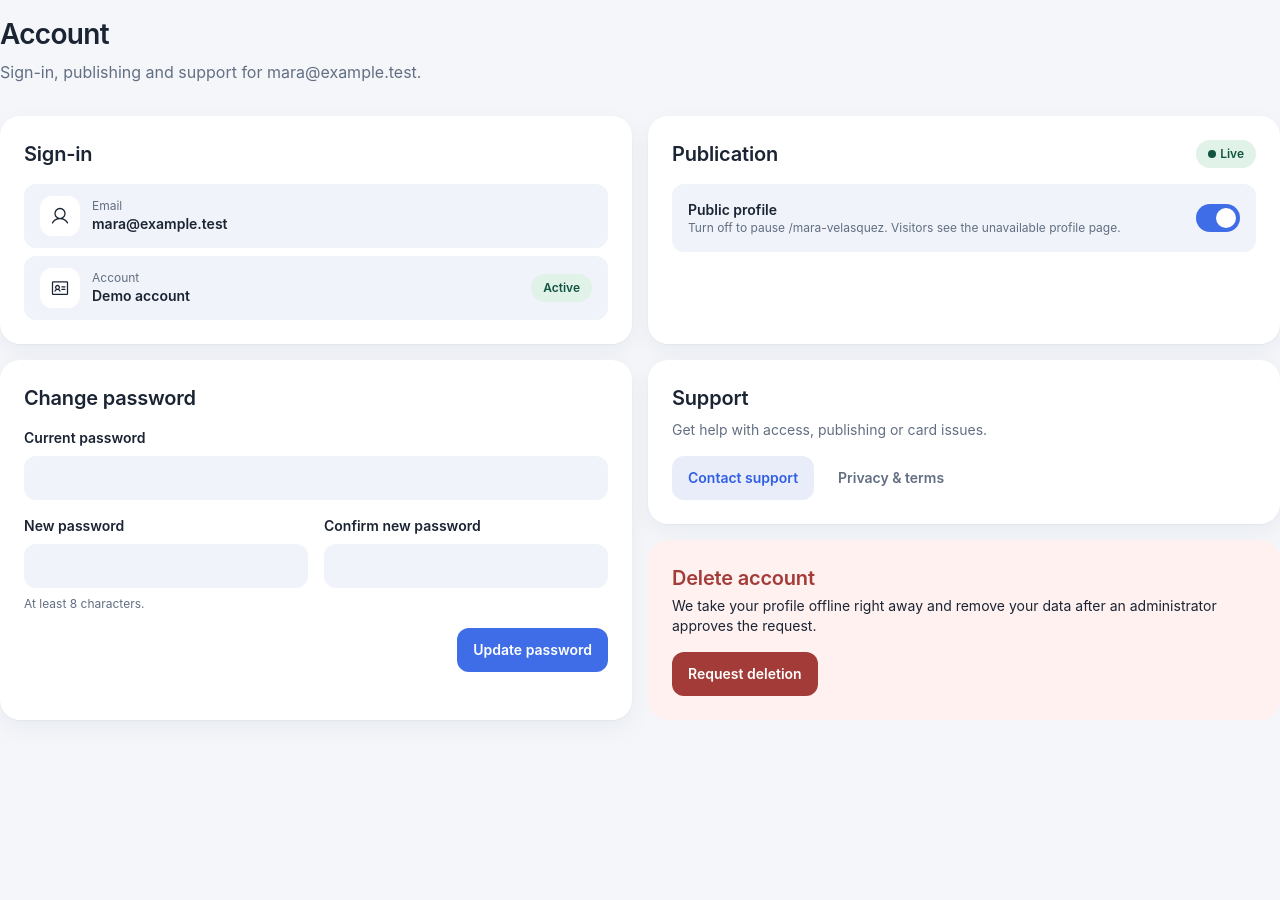
Test: demo auth isolation › keeps account deletion for an ordinary local customer
What coordinates should you click on to do the following:
click the button "Request deletion"
I would click on:
 (745, 674)
Its box is [672,652,818,696].
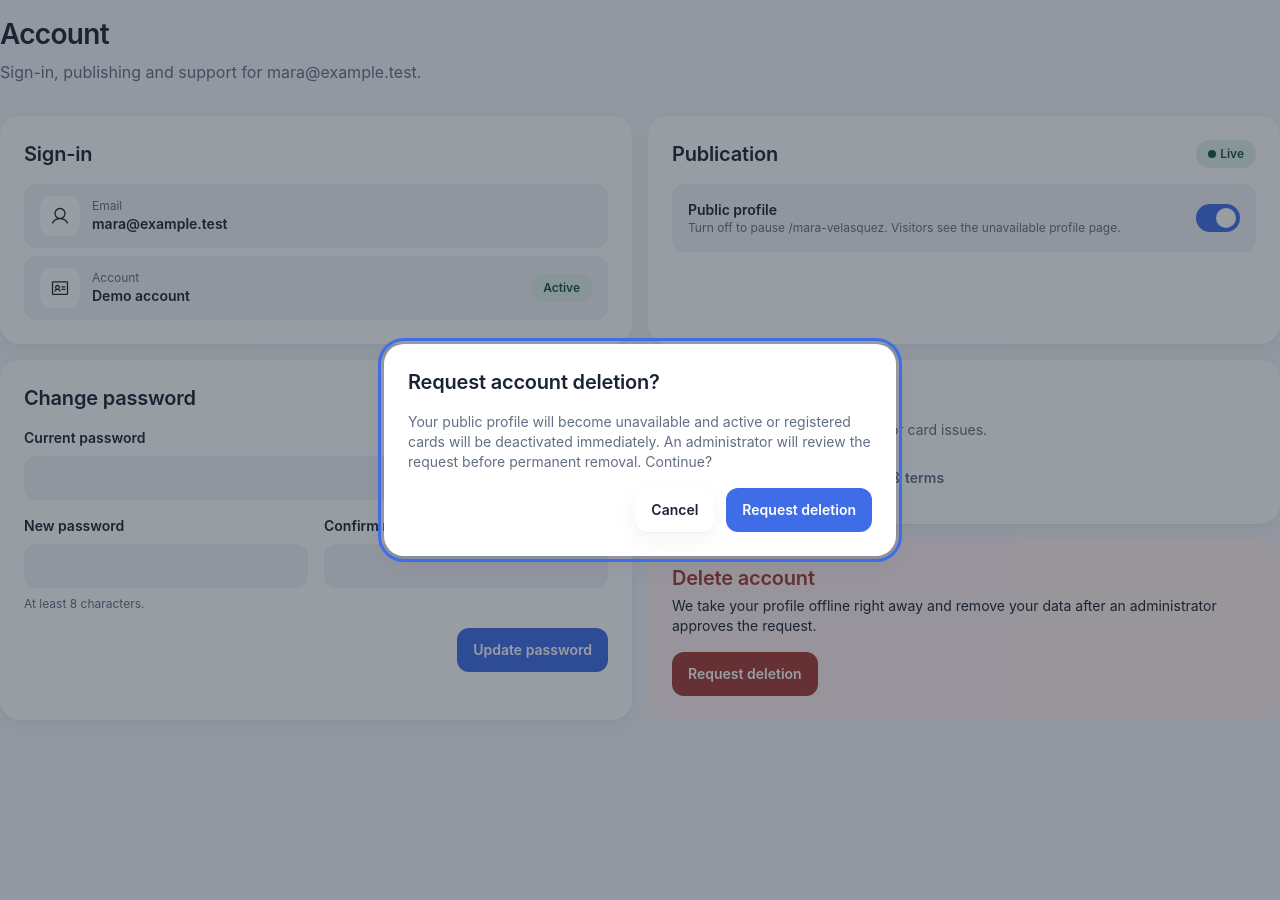
Expected: the dialog "Request account deletion?" is shown, [384,344,896,556]
